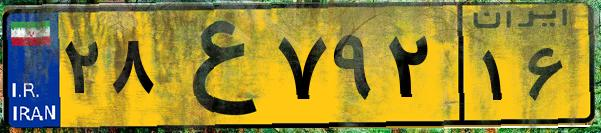1: (475, 38, 525, 113)
2: (385, 28, 445, 110), (57, 26, 110, 100)
6: (525, 38, 570, 115)
7: (270, 28, 330, 110)
8: (110, 28, 158, 98)
9: (330, 28, 385, 110)
ع: (158, 12, 270, 120)
